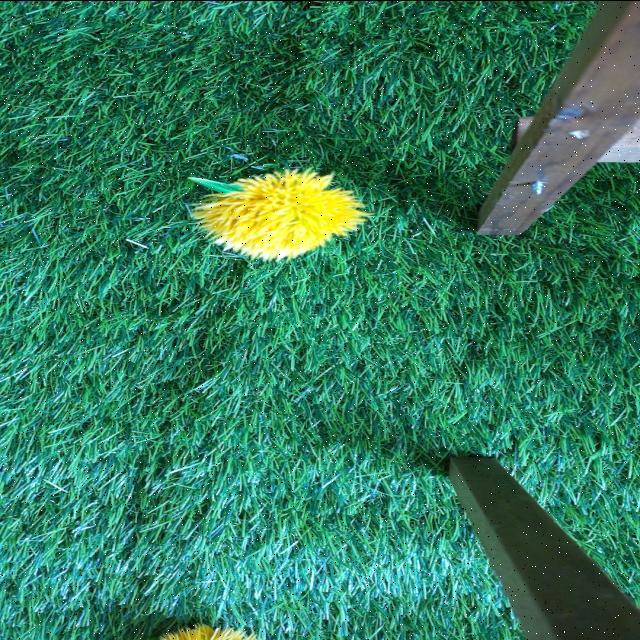flower: (199, 170, 366, 258), (158, 625, 270, 640)
